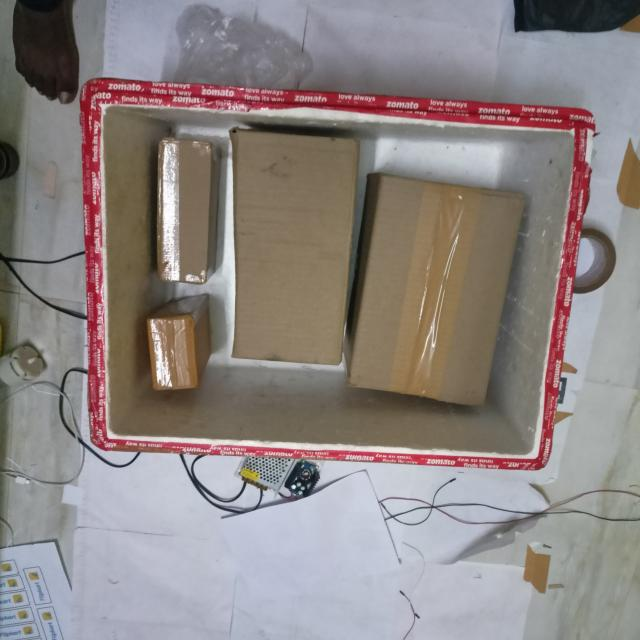box: (374, 182, 520, 403), (232, 132, 363, 366), (157, 142, 215, 280), (144, 317, 202, 392)
